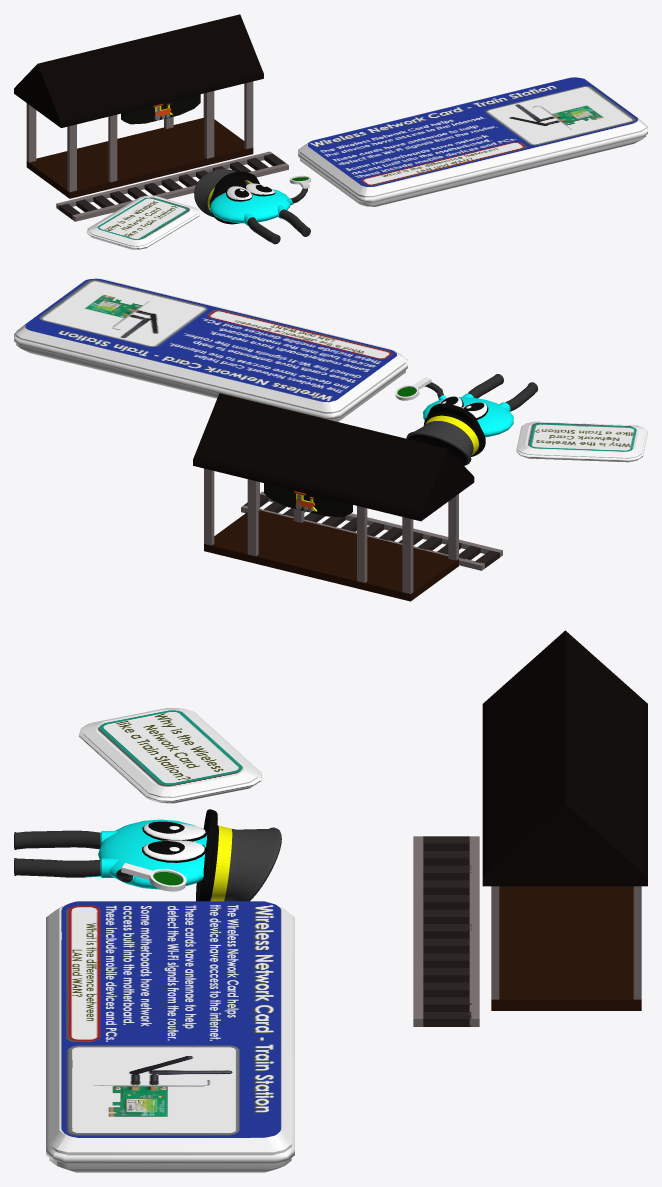
Rendered from combined_wireless.obj.
3 views of the same model, one above another, from view 1: azimuth 30°, elevation 25°; view 2: azimuth 150°, elevation 25°; view 3: azimuth 270°, elevation 25° (orthographic). The views are drawn at different scales.
Visible parts, largest first — view 1: mod_station, wireless1, char_1, wireless2; view 2: mod_station, wireless1, char_1, wireless2; view 3: mod_station, wireless1, char_1, wireless2.
Part boxes in pixels (box(x1,y1,x2,y2)): mod_station: box(14, 14, 288, 221); wireless1: box(298, 77, 647, 206); char_1: box(194, 169, 310, 244); wireless2: box(86, 195, 199, 249); mod_station: box(193, 393, 502, 601); wireless1: box(14, 278, 407, 421); char_1: box(395, 374, 537, 465); wireless2: box(516, 421, 647, 462); mod_station: box(413, 630, 647, 1026); wireless1: box(46, 901, 294, 1172); char_1: box(14, 809, 281, 901); wireless2: box(79, 707, 261, 803).
Size of the model in its own units: 14.42 by 3.26 by 8.56.
